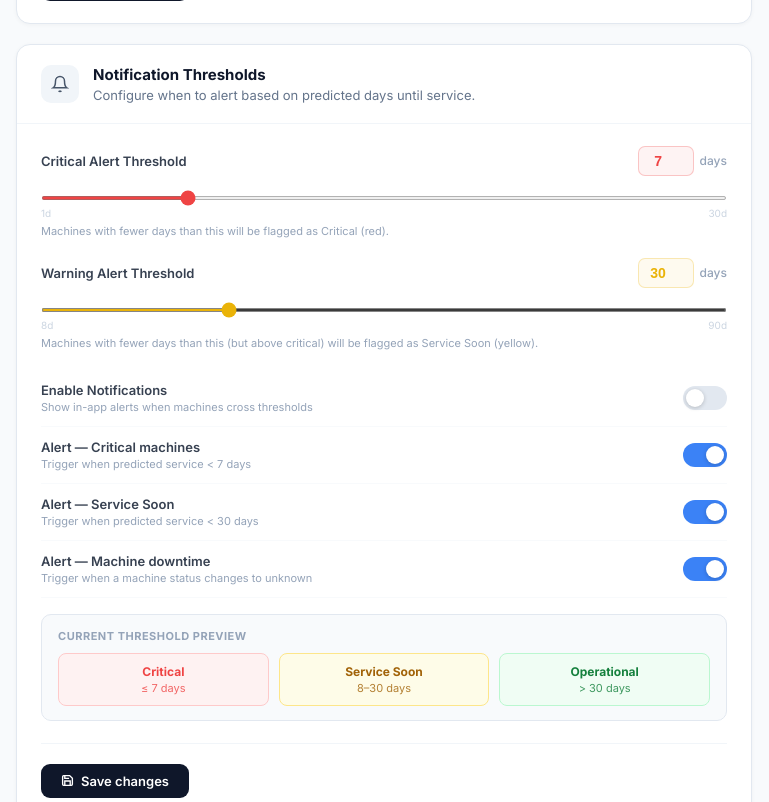
Test case: SettingsPage — toggle switches › email field appears after enabling notifications
The image size is (769, 802).
(page scrolled)
Expected: the field with placeholder "ops@example.com" is not shown
Click the button named "enable notifications".
click(705, 398)  # box [683,386,727,410]
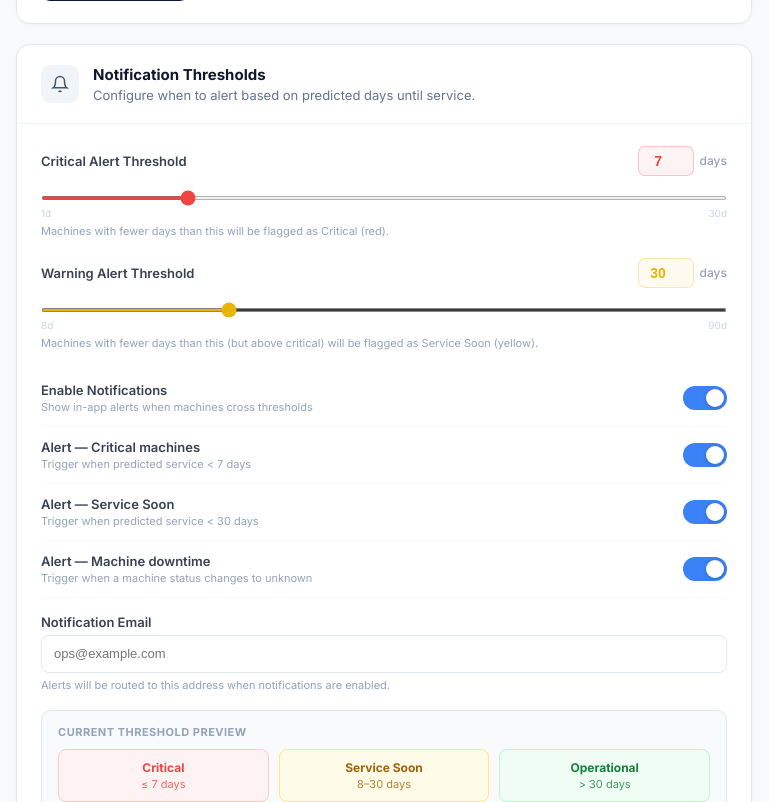
Now the field with placeholder "ops@example.com" is shown, box [41,635,727,673]
